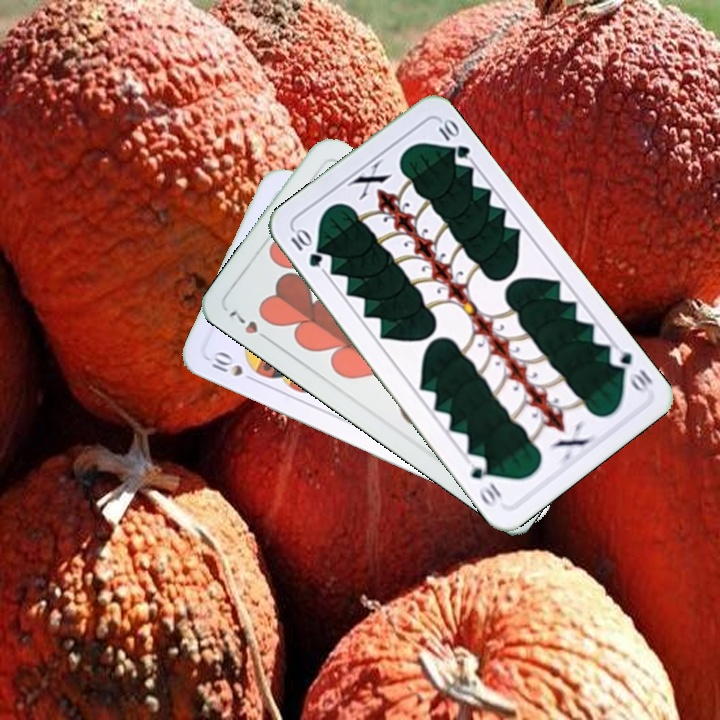G10: (604, 342, 655, 395), (286, 225, 325, 270)
H7: (224, 306, 275, 345)
S10: (207, 348, 246, 379)
